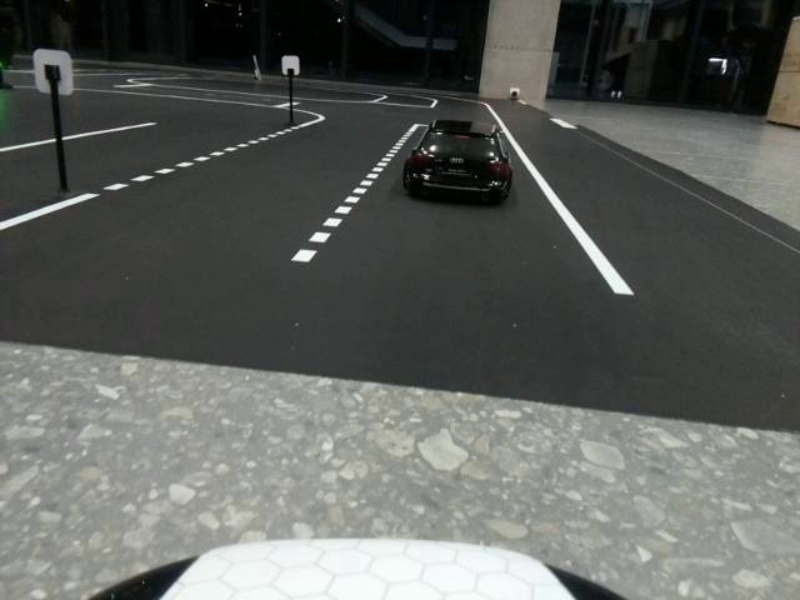car: (403, 115, 527, 210)
